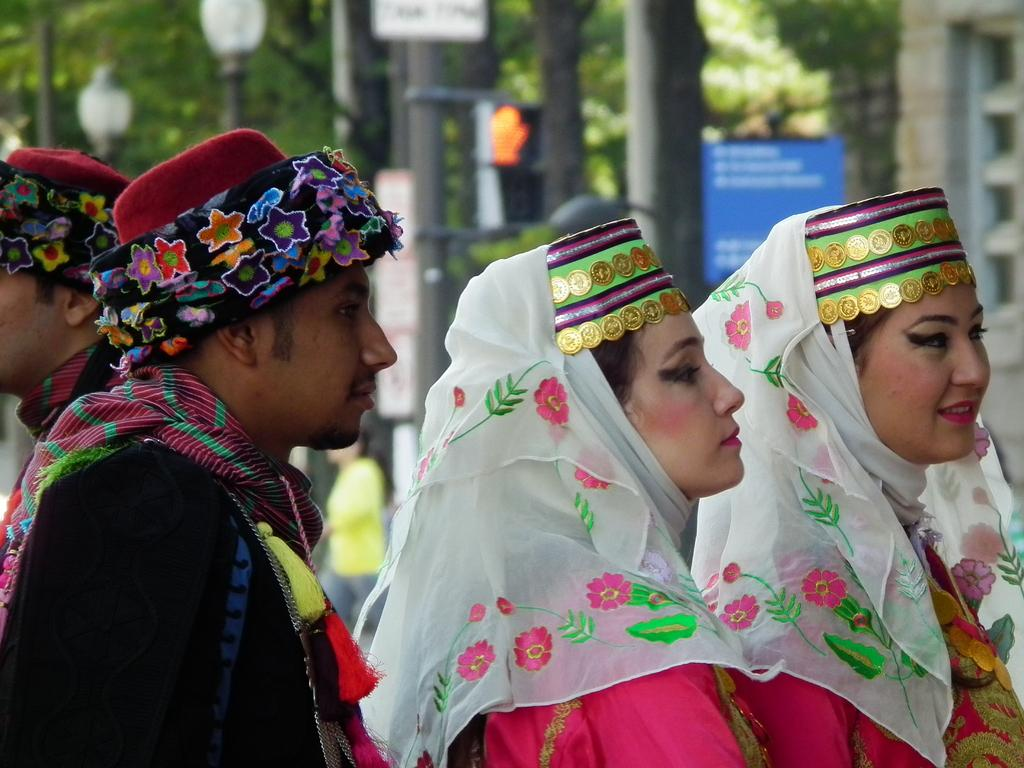Hat: (86, 128, 402, 373), (0, 144, 136, 278)
